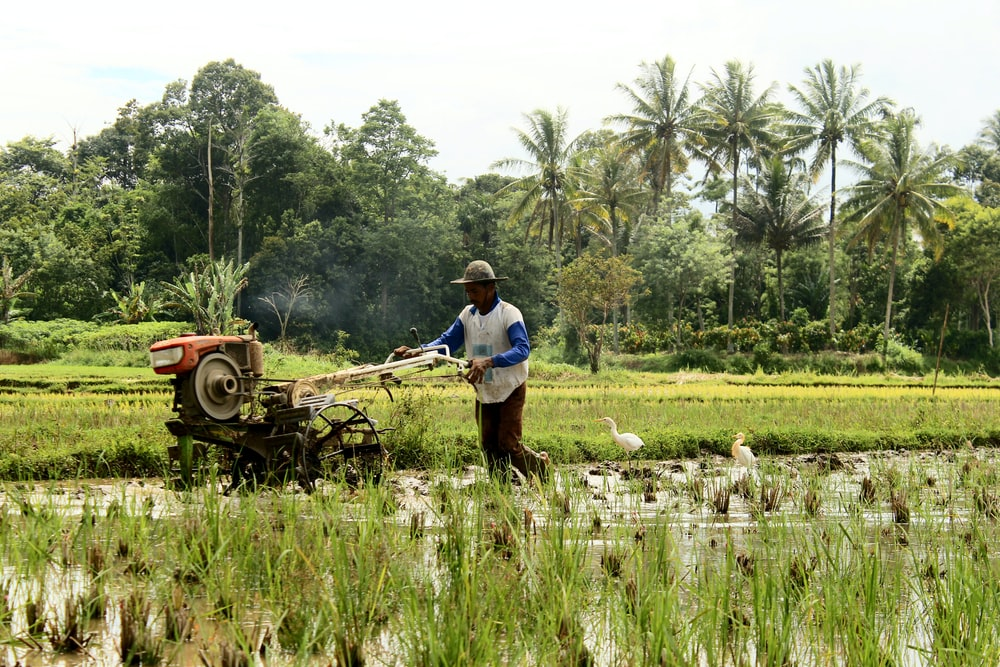face: (457, 257, 506, 318)
